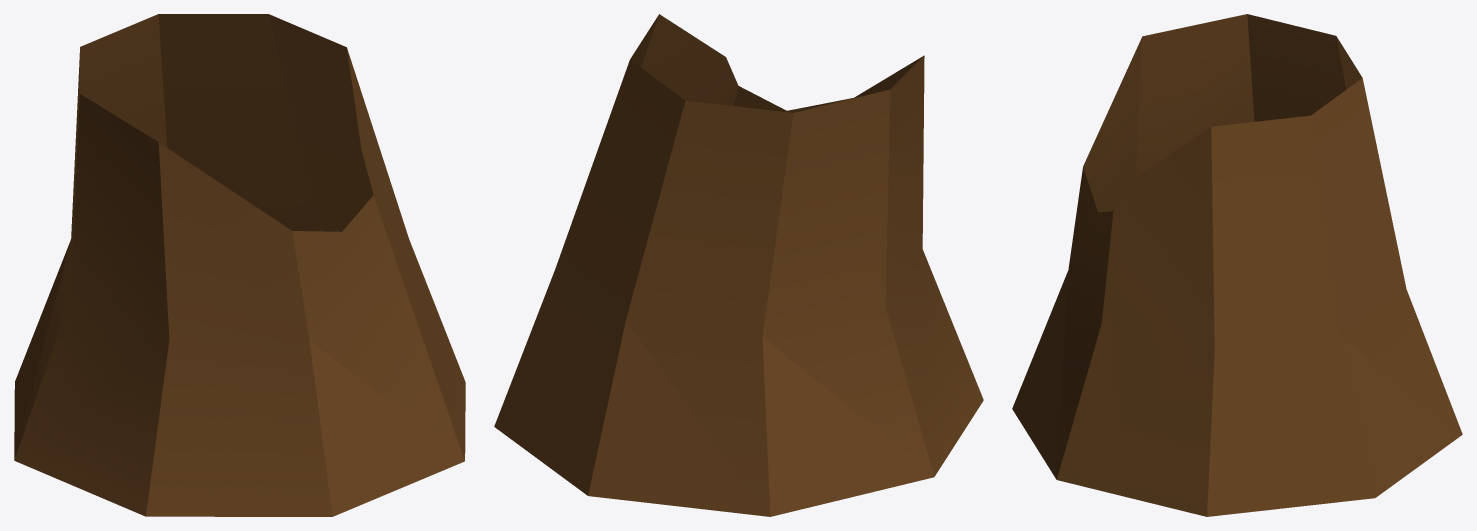
File: Vegetation_Tree_Stump_01.fbx
The picture shows the model from 3 angles, left to right: view 1: azimuth 30°, elevation 25°; view 2: azimuth 150°, elevation 25°; view 3: azimuth 270°, elevation 25°; orthographic projection. The views are drawn at different scales.
Parts seen in each view (by area): view 1: Vegetation_Tree_Stump_01; view 2: Vegetation_Tree_Stump_01; view 3: Vegetation_Tree_Stump_01.
Boxes of the visible parts, x1=… form: Vegetation_Tree_Stump_01: x1=14, y1=14, x2=465, y2=516; Vegetation_Tree_Stump_01: x1=494, y1=14, x2=983, y2=516; Vegetation_Tree_Stump_01: x1=1012, y1=14, x2=1462, y2=516.
Bounding box in the file's own units: 30.06 × 24.82 × 30.06.
